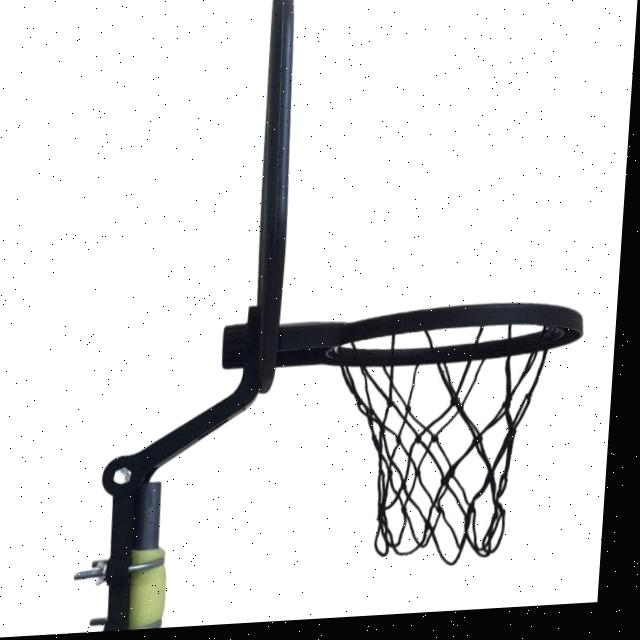hoop: (297, 266, 599, 576)
